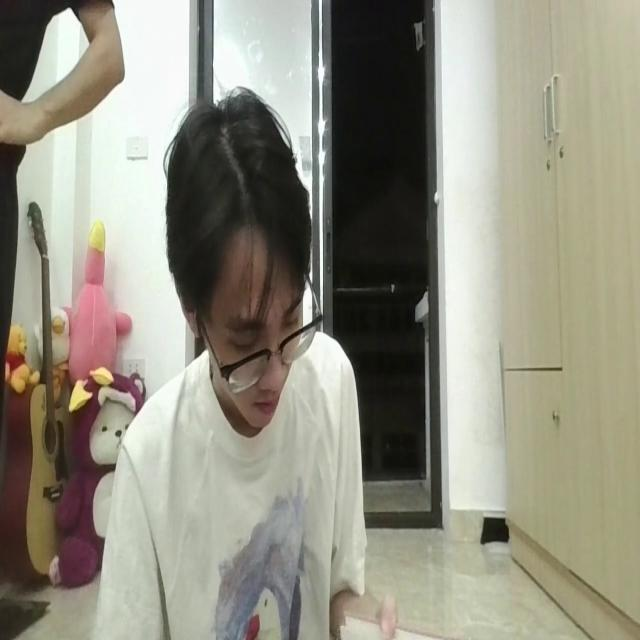student: (111, 86, 375, 640)
